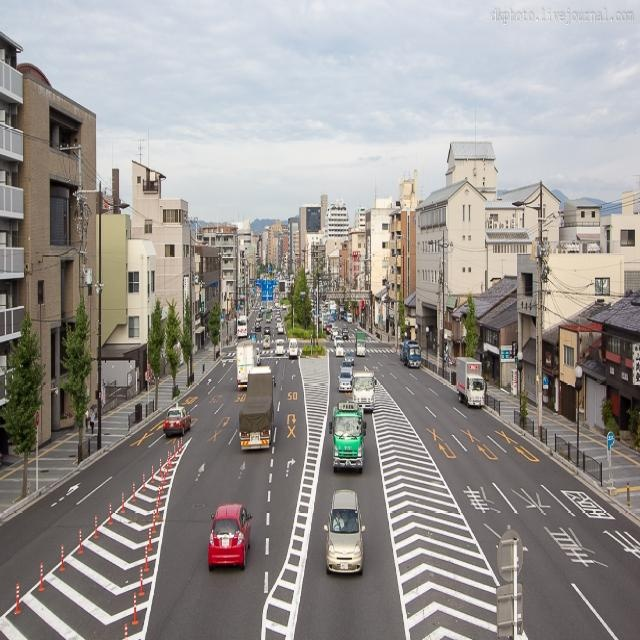Bus: (235, 313, 249, 342)
